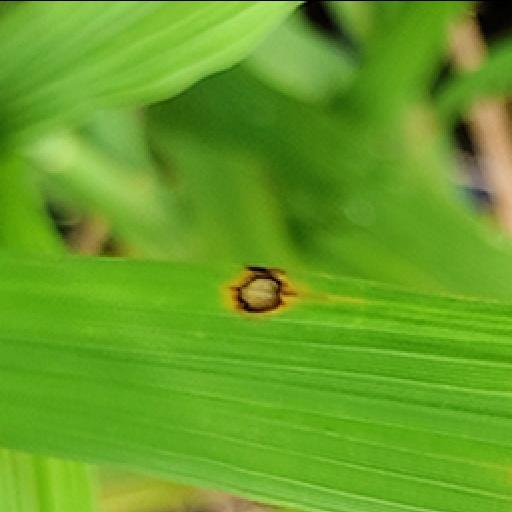Brown Spot: (220, 260, 296, 330)
